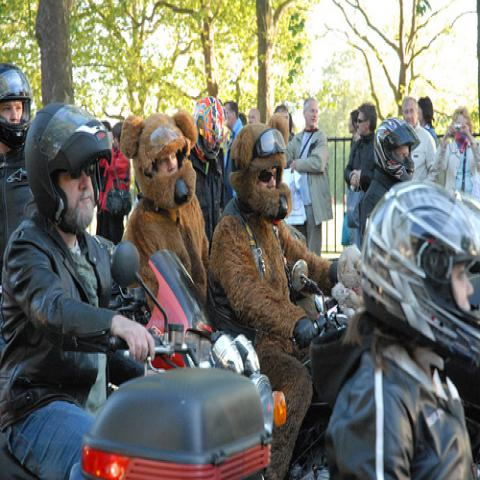motorcycle: (116, 243, 286, 430), (83, 368, 271, 471), (292, 259, 350, 336)
